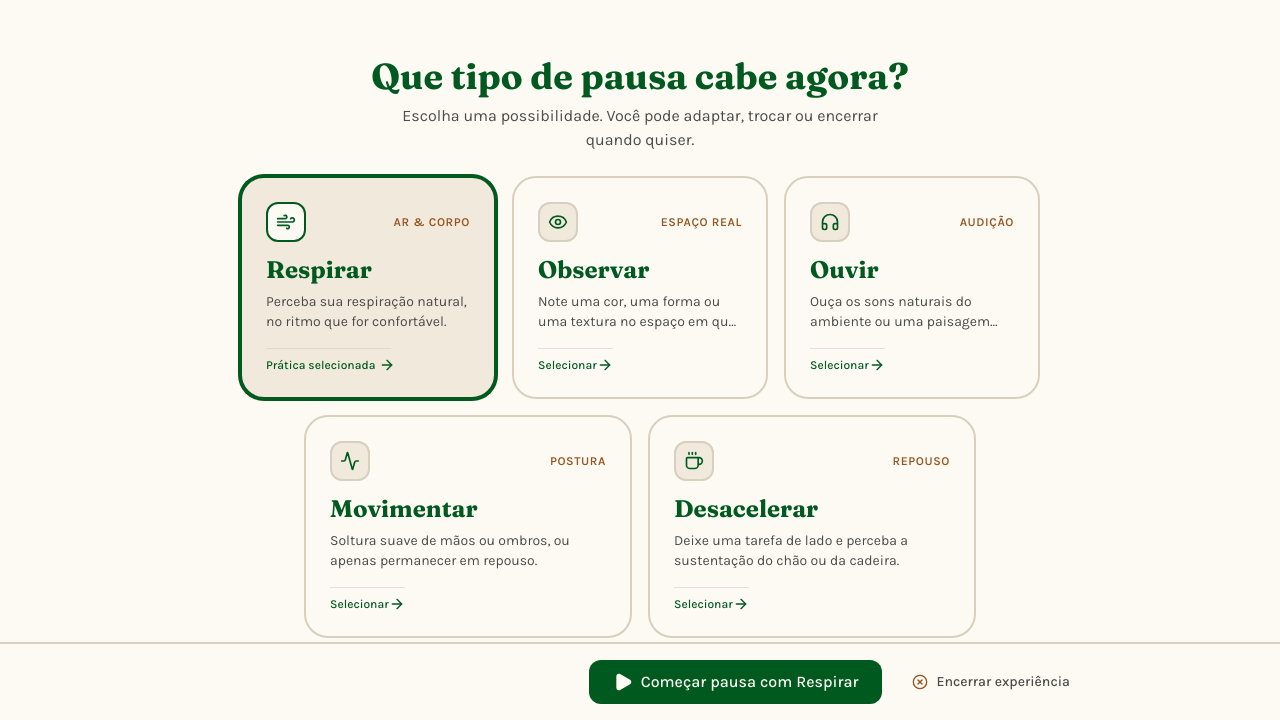
Scenario: SalaDePausaApp › finishes without creating a fictional profile or storing private reflections
Click the button "Começar pausa com Respirar" at (736, 682), box [589,660,882,704]
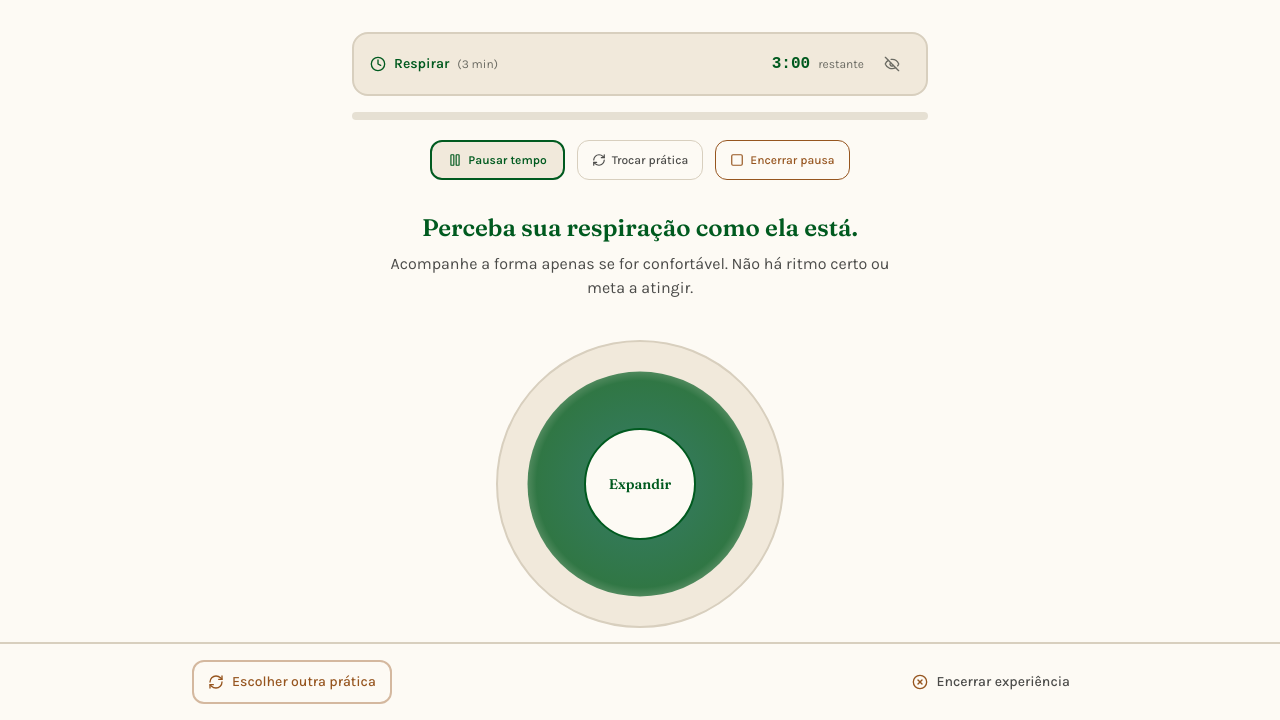
Click the button "Encerrar pausa" at (782, 160), box [715,140,850,180]
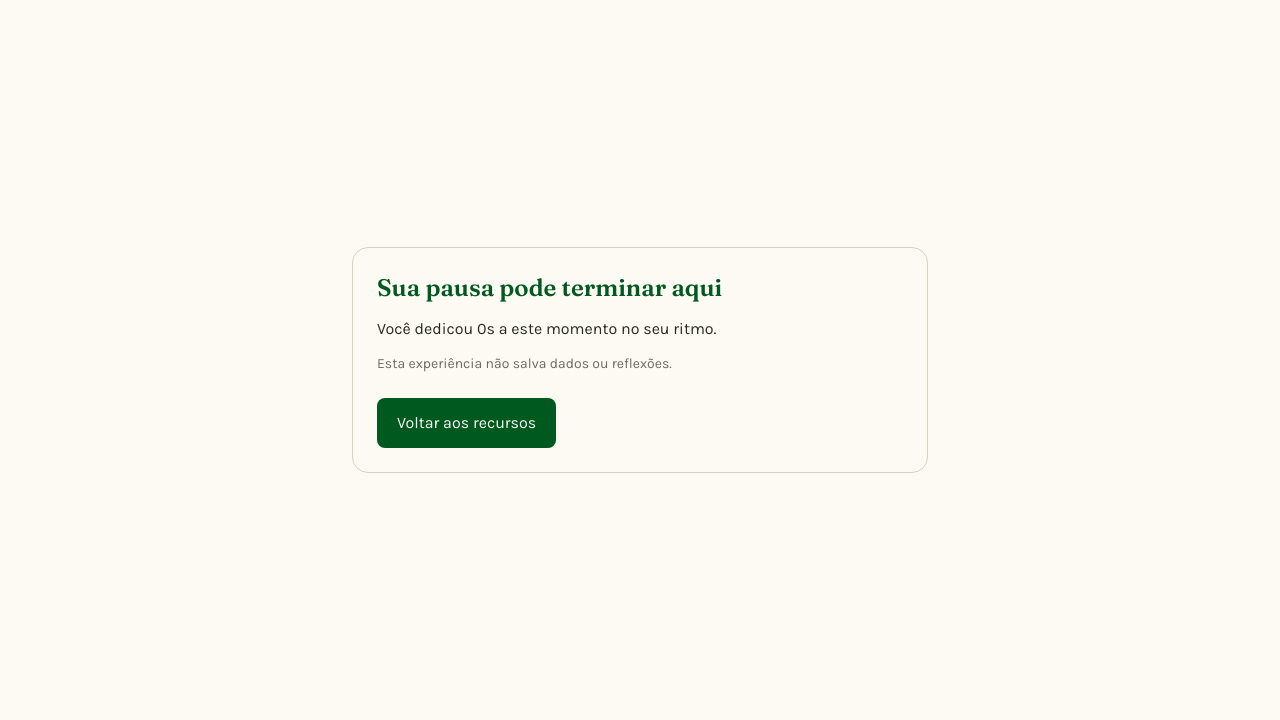
Now the text "Esta experiência não salva dados ou reflexões." is shown, box [377,355,672,372]
